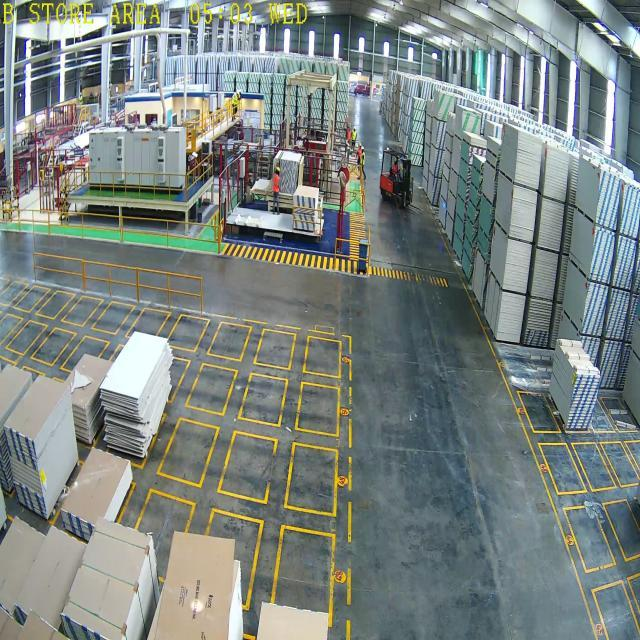material_stack: (560, 342, 592, 424)
